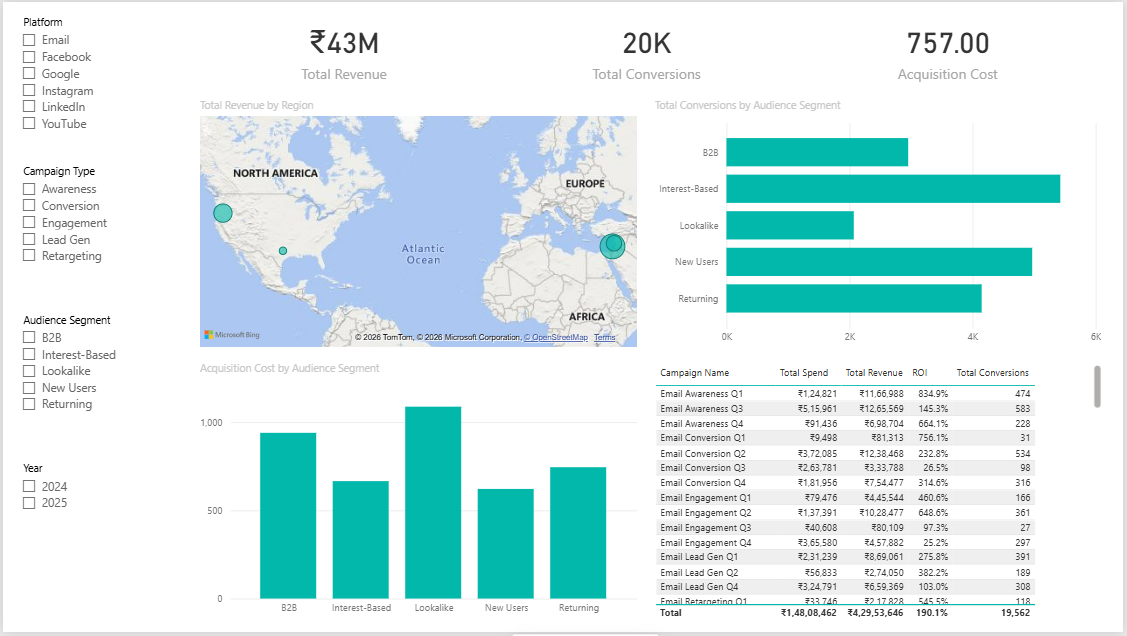

This screenshot's page, from the dashboard's own definition file:
{"tool":"powerbi","page":{"name":"Audience & Region","canvas":[1280,720],"ordinal":2},"visuals":[{"type":"slicer","fields":{"Values":["Campaigns.Platform"]},"box":[10,10,200,160],"z":0},{"type":"slicer","fields":{"Values":["Campaigns.Campaign Type"]},"box":[10,180,200,160],"z":1000},{"type":"slicer","fields":{"Values":["Campaigns.Audience Segment"]},"box":[10,350,200,160],"z":2000},{"type":"slicer","fields":{"Values":["DateTable.Year"]},"box":[10,520,200,160],"z":3000},{"type":"card","fields":{"Values":["Campaigns.Total Revenue"]},"box":[220,10,340,90],"z":4000},{"type":"card","fields":{"Values":["Campaigns.Total Conversions"]},"box":[565,10,340,90],"z":5000},{"type":"card","fields":{"Values":["Campaigns.Acquisition Cost"]},"box":[910,10,340,90],"z":6000},{"type":"map","fields":{"Category":["Campaigns.Region"],"Size":["Campaigns.Total Revenue"]},"box":[220,110,510,290],"z":7000},{"type":"clusteredBarChart","fields":{"Category":["Campaigns.Audience Segment"],"Y":["Campaigns.Total Conversions"]},"box":[740,110,520,290],"z":8000},{"type":"clusteredColumnChart","fields":{"Category":["Campaigns.Audience Segment"],"Y":["Campaigns.Acquisition Cost"]},"box":[220,410,510,300],"z":9000},{"type":"tableEx","fields":{"Values":["Campaigns.Campaign Name","Campaigns.Total Spend","Campaigns.Total Revenue","Campaigns.ROI","Campaigns.Total Conversions"]},"box":[740,410,520,300],"z":10000}]}

Visuals, with their boxes in screenshot pixels (x1, y1, x2, y2), scaled from the page's 1280x720 canvas onto the 1127x636 screenshot:
slicer - Campaigns.Platform: 9, 9, 185, 150
slicer - Campaigns.Campaign Type: 9, 159, 185, 300
slicer - Campaigns.Audience Segment: 9, 309, 185, 450
slicer - DateTable.Year: 9, 459, 185, 601
card - Campaigns.Total Revenue: 194, 9, 493, 88
card - Campaigns.Total Conversions: 497, 9, 797, 88
card - Campaigns.Acquisition Cost: 801, 9, 1101, 88
map - Campaigns.Region x Campaigns.Total Revenue: 194, 97, 643, 353
clusteredBarChart - Campaigns.Audience Segment x Campaigns.Total Conversions: 652, 97, 1109, 353
clusteredColumnChart - Campaigns.Audience Segment x Campaigns.Acquisition Cost: 194, 362, 643, 627
tableEx - Campaigns.Campaign Name x Campaigns.Total Spend: 652, 362, 1109, 627
